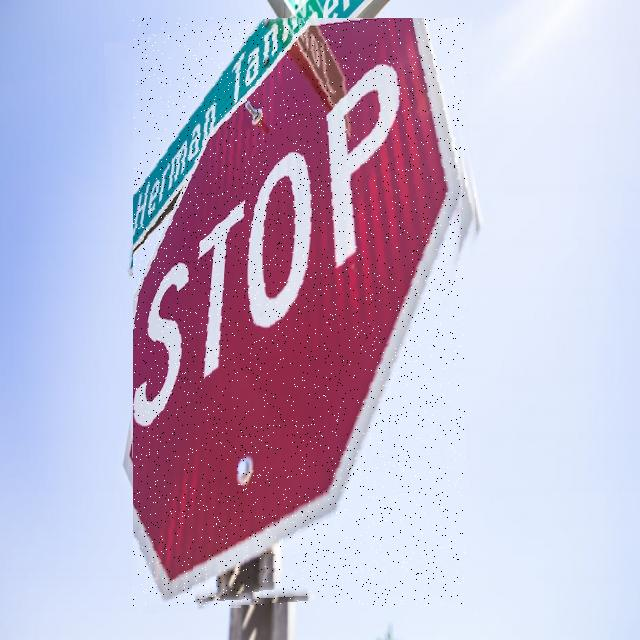stop: (133, 19, 465, 606)
